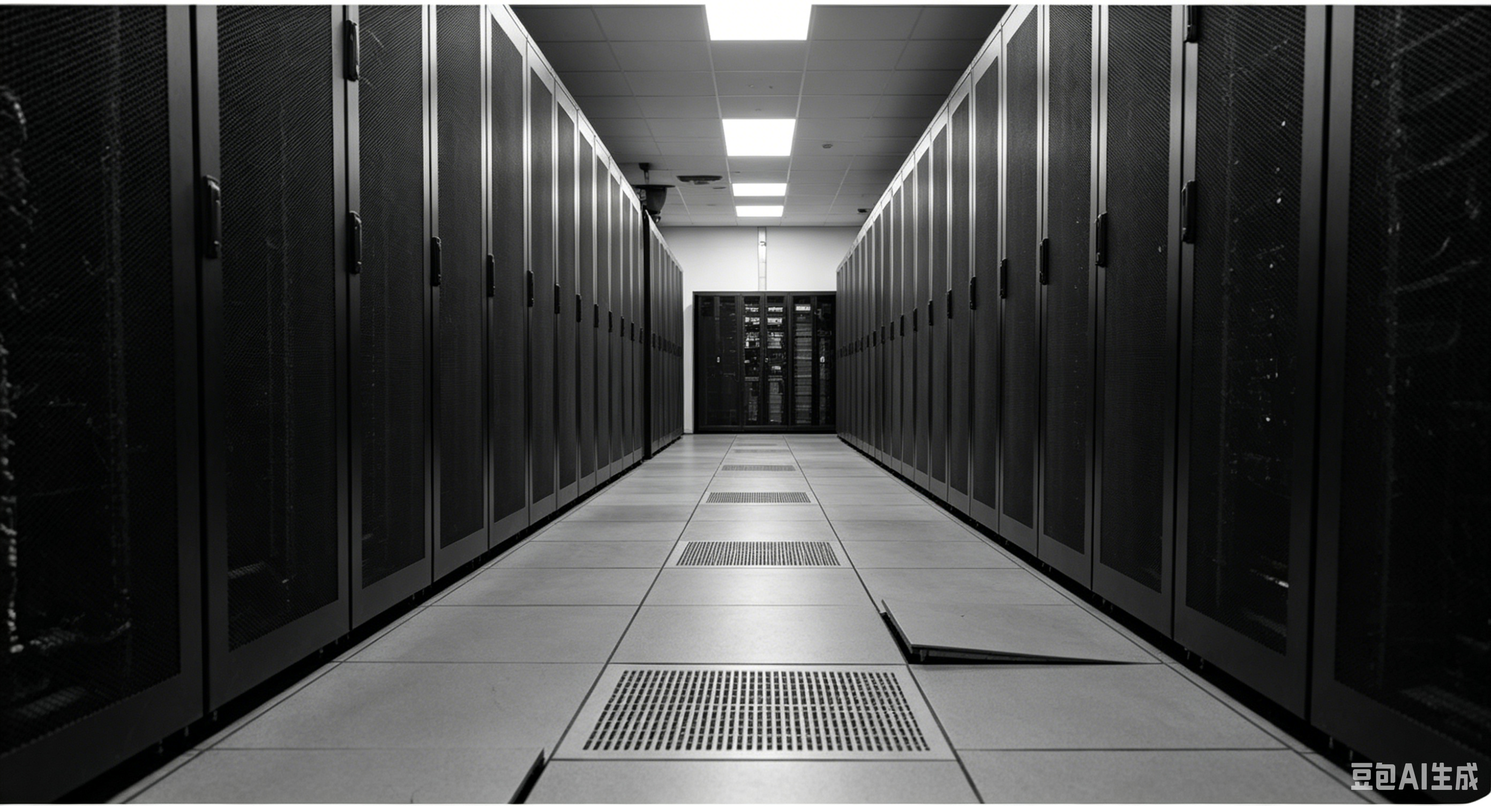floor_defect: (870, 590, 1144, 667), (434, 730, 593, 806)
